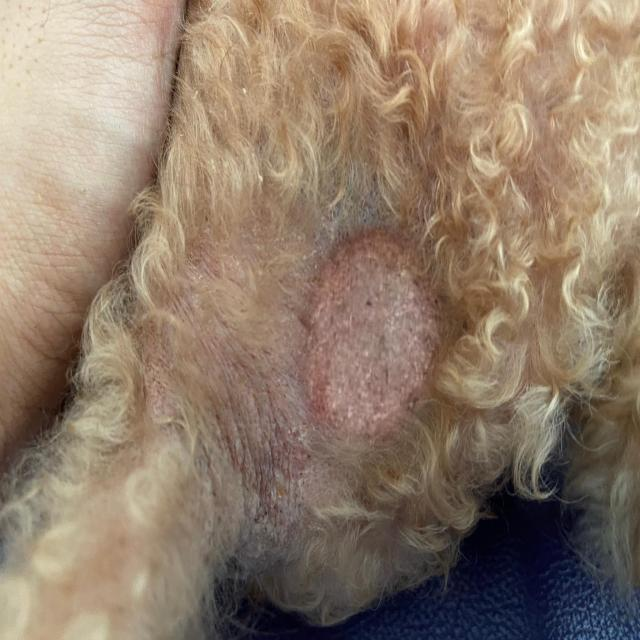ringworm: (298, 206, 447, 438)
